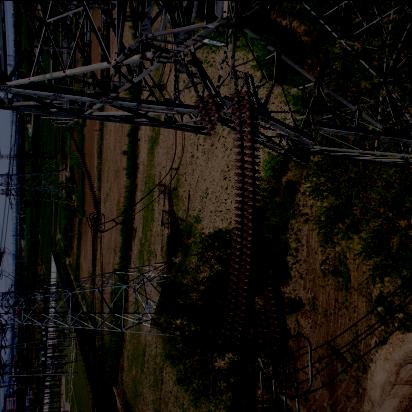insulator: (171, 73, 311, 353), (66, 127, 101, 217)
